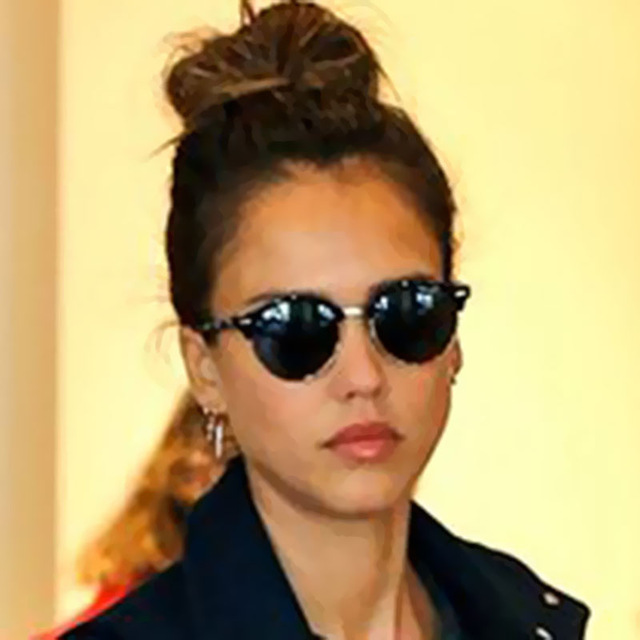sunglasses: (185, 274, 481, 367)
